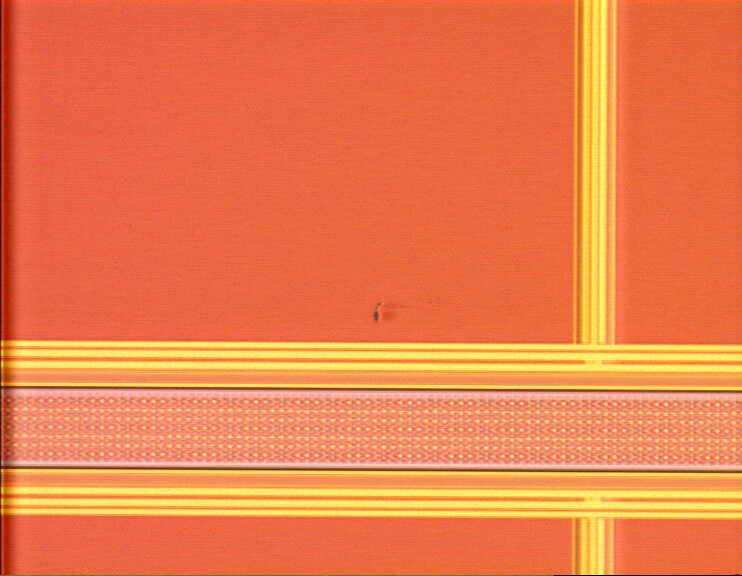PIQ PARTICLE: (359, 295, 412, 332)
